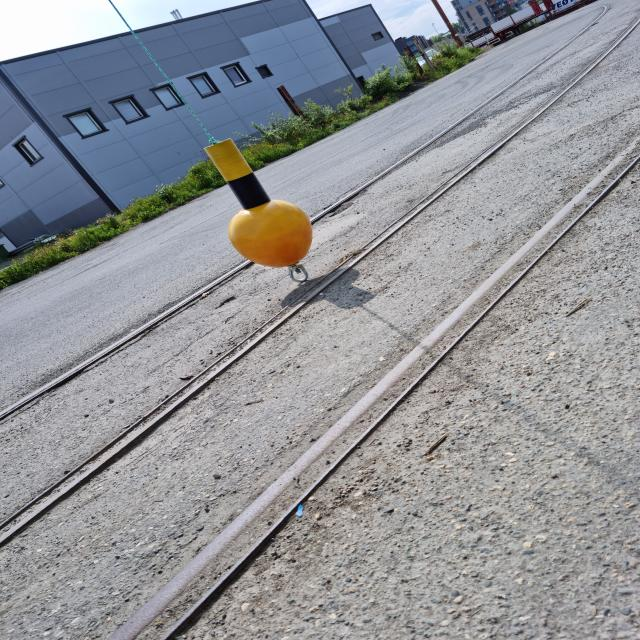west: (201, 138, 314, 266)
